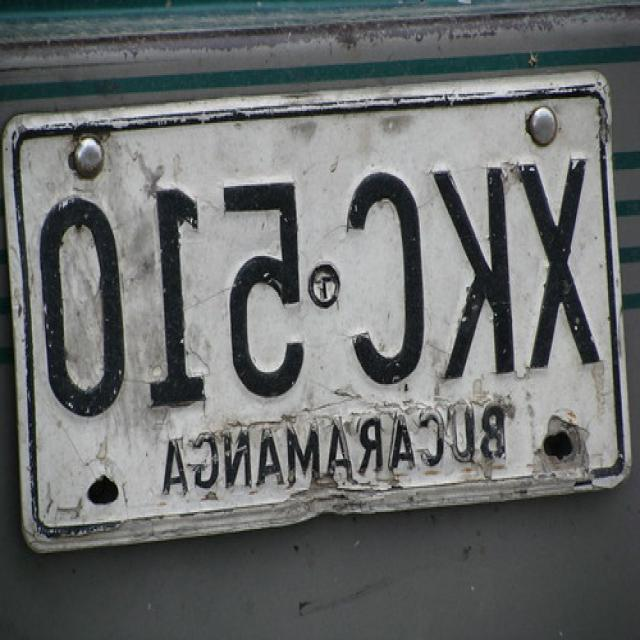placas: (21, 133, 625, 426)
